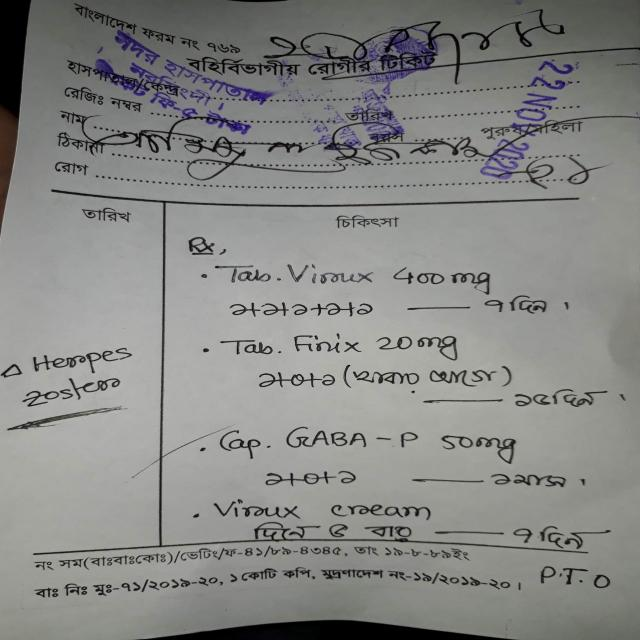Finix: (278, 327, 378, 361)
Gaba-P: (283, 419, 424, 462)
Virux: (208, 492, 325, 523), (280, 256, 381, 290)
